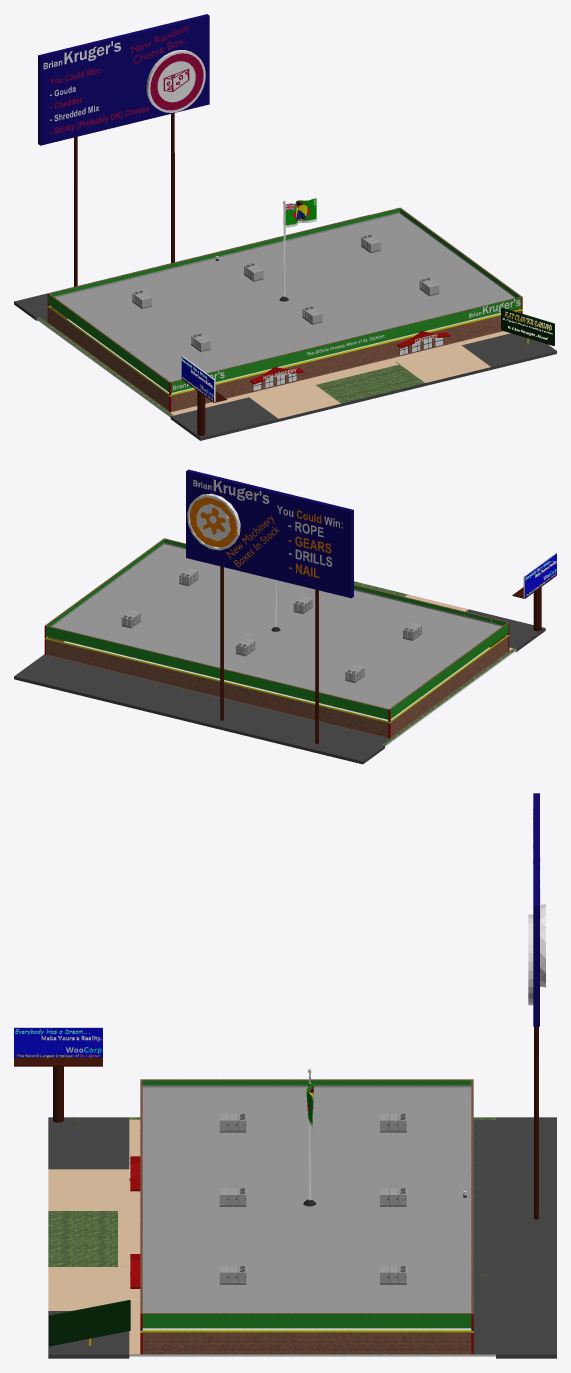
Rendered from Mart.glb.
3 renders of one model, top to bottom at view 1: azimuth 30°, elevation 25°; view 2: azimuth 150°, elevation 25°; view 3: azimuth 270°, elevation 25°, orthographic. The views are drawn at different scales.
Parts seen in each view (by area): view 1: Roof, Walls, Billboard2, Ground, Floor, Logos, Sign.003, RTUs, Billboard, Stand2, Flag, BillboardBack (+1 smaller); view 2: Roof, Walls, Billboard2, Ground, Floor, Logos, Sign.003, RTUs, Stand2, BillboardBack, Support; view 3: Roof, Ground, Walls, Floor, RTUs, Billboard, BillboardBack, Billboard2, Logos, Stand2, Stand, Text.
Boxes of the visible parts, bbox=[...] form: Roof: bbox=[54, 212, 516, 381]; Walls: bbox=[47, 207, 522, 412]; Billboard2: bbox=[38, 14, 209, 145]; Ground: bbox=[14, 214, 556, 440]; Floor: bbox=[36, 312, 510, 417]; Logos: bbox=[146, 50, 205, 112]; Sign.003: bbox=[43, 26, 188, 133]; RTUs: bbox=[132, 235, 439, 351]; Billboard: bbox=[501, 307, 554, 345]; Stand2: bbox=[74, 113, 174, 286]; Flag: bbox=[285, 198, 316, 227]; BillboardBack: bbox=[181, 356, 215, 402]; Roof: bbox=[50, 543, 503, 708]; Walls: bbox=[44, 538, 509, 738]; Billboard2: bbox=[186, 469, 353, 598]; Ground: bbox=[14, 581, 545, 764]; Floor: bbox=[36, 641, 516, 746]; Logos: bbox=[187, 493, 240, 550]; Sign.003: bbox=[193, 479, 342, 577]; RTUs: bbox=[121, 568, 422, 682]; Stand2: bbox=[220, 566, 318, 743]; BillboardBack: bbox=[523, 553, 556, 598]; Support: bbox=[533, 587, 541, 631]; Roof: bbox=[142, 1085, 471, 1312]; Ground: bbox=[48, 1117, 556, 1358]; Walls: bbox=[140, 1079, 473, 1354]; Floor: bbox=[118, 1117, 495, 1356]; RTUs: bbox=[219, 1113, 406, 1284]; Billboard: bbox=[49, 1300, 130, 1346]; BillboardBack: bbox=[14, 1027, 102, 1057]; Billboard2: bbox=[533, 793, 539, 1026]; Logos: bbox=[528, 904, 545, 1005]; Stand2: bbox=[534, 1026, 538, 1219]; Stand: bbox=[14, 1058, 102, 1066]; Text: bbox=[15, 1029, 101, 1057].
Size of what is drawn, in the model's own units: 77.02 by 52.58 by 74.49.
36 materials, 3 textured.
